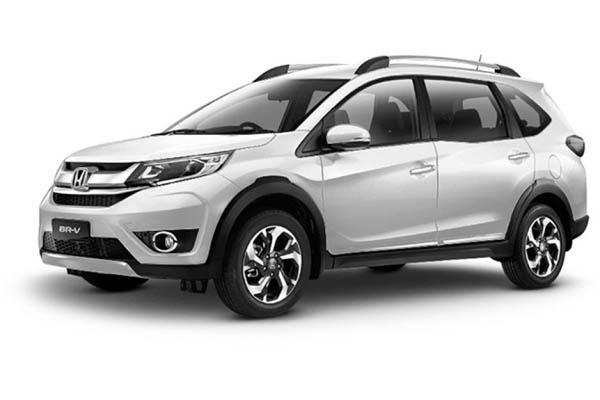Car hood: (62, 131, 278, 168)
Fender - -F-L-: (215, 127, 326, 282)
Fender - -R-L-: (532, 129, 574, 207)
Front bumper: (35, 173, 244, 283)
Headlight - -L-: (122, 148, 240, 194)
Passenger-s door - -F-L-: (324, 71, 439, 259)
Passenger-s door - -R-L-: (425, 72, 535, 254)
Rear bumper: (560, 156, 591, 257)
Rear light - -L-: (562, 131, 588, 162)
Side bumper - -L-: (315, 236, 523, 274)
Side mirror - -L-: (318, 122, 374, 156)
